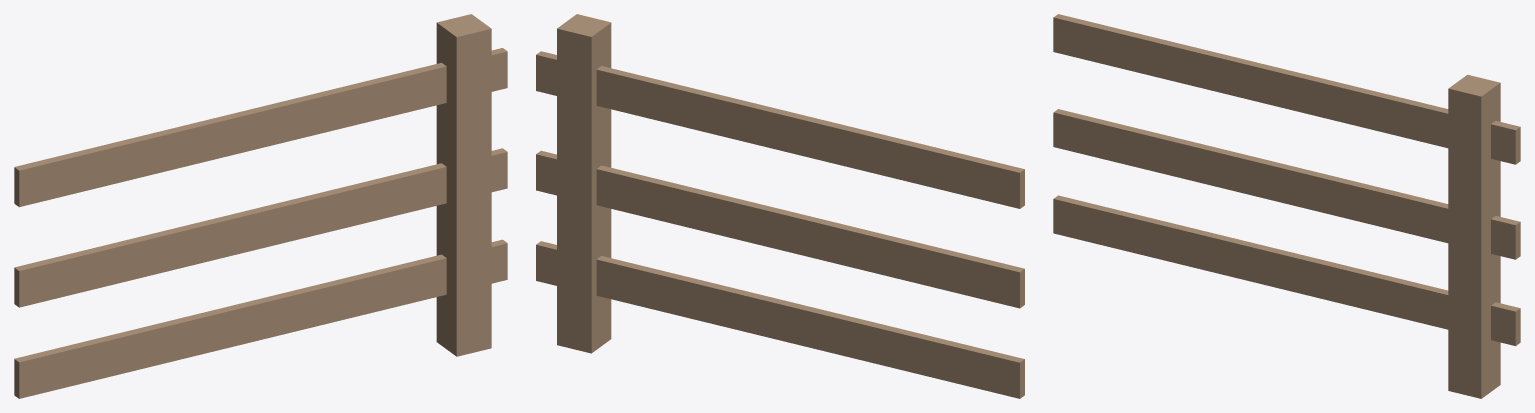
Rendered from Fence Straight.obj.
3 views of the same model, side by side, from view 1: azimuth 30°, elevation 25°; view 2: azimuth 150°, elevation 25°; view 3: azimuth 330°, elevation 25° (orthographic). The views are drawn at different scales.
Bounding box in the file's own units: 56 × 35 × 4.
Materials: 1 (1 with a texture image).
